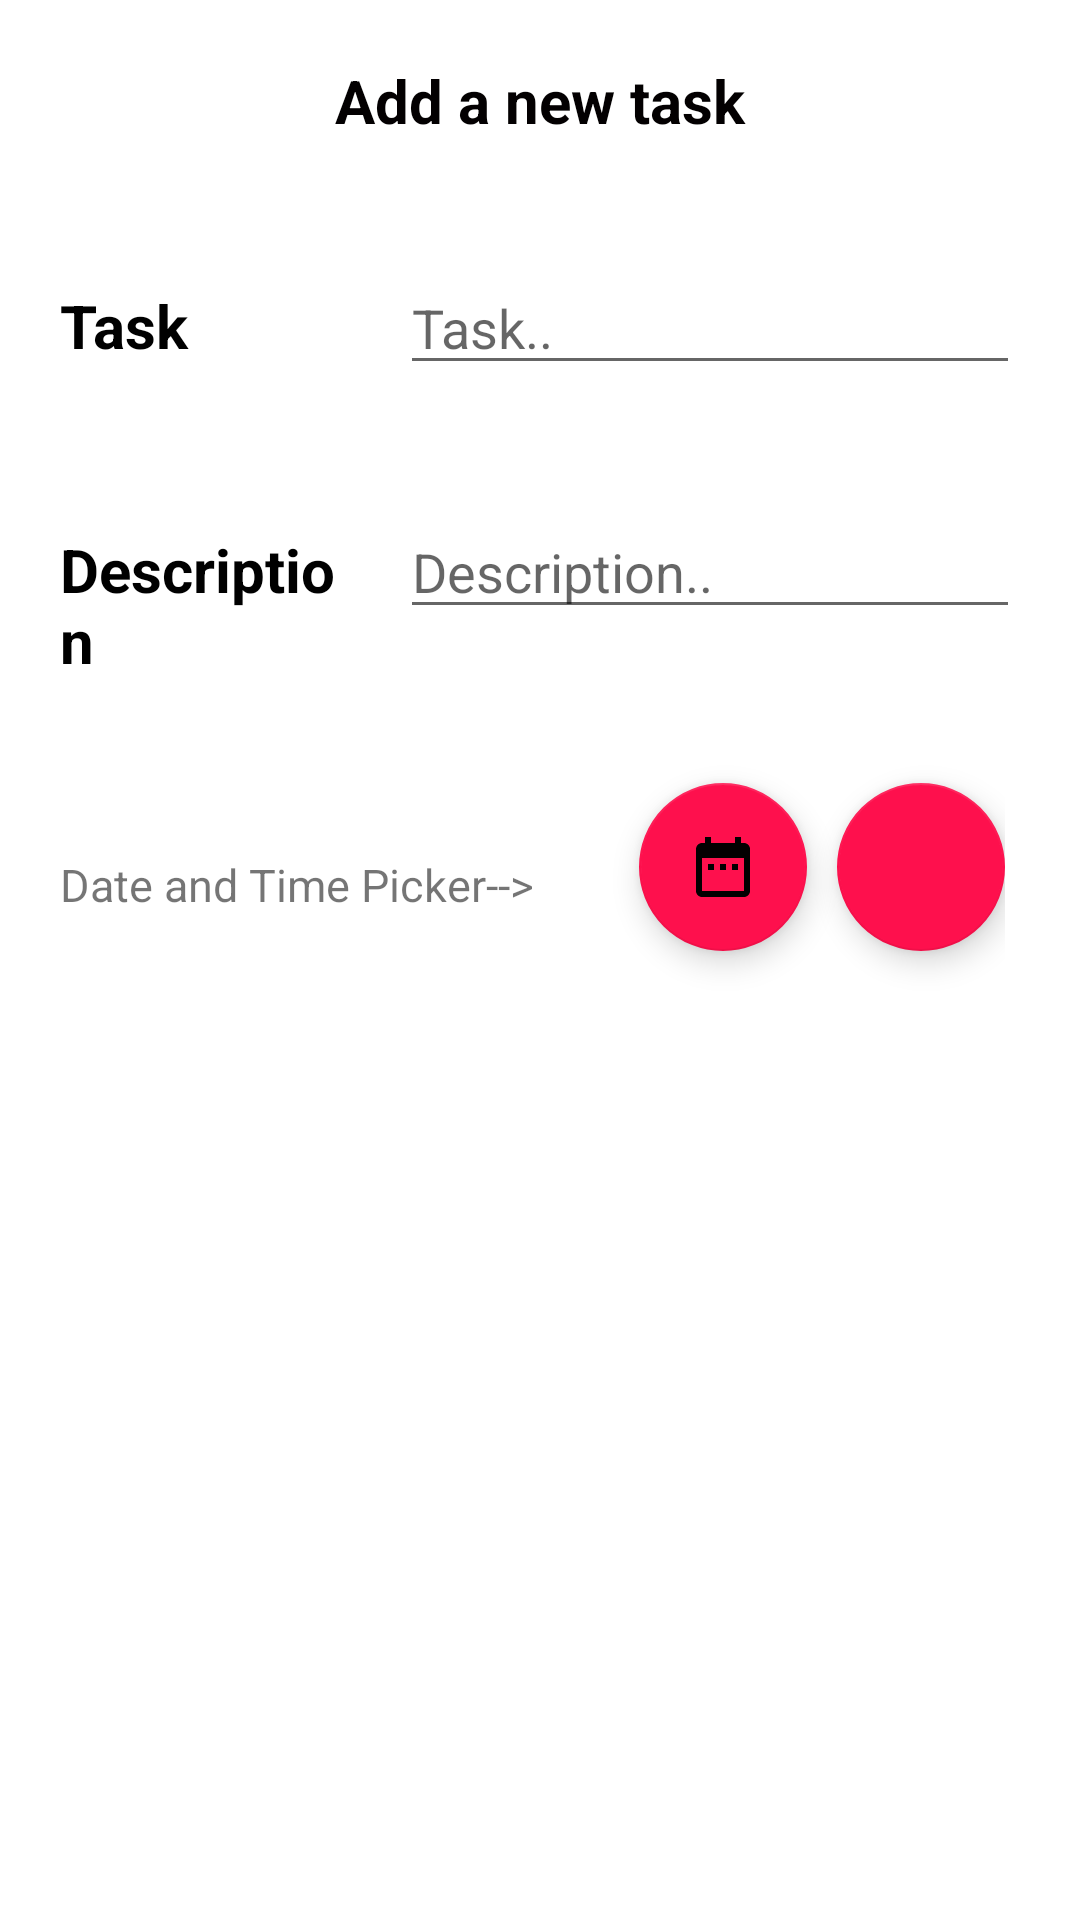

Where icons sit on this 1080 x 1920 app screen, as rect(x1, y1, x2, y2):
date range: rect(639, 783, 807, 951)
